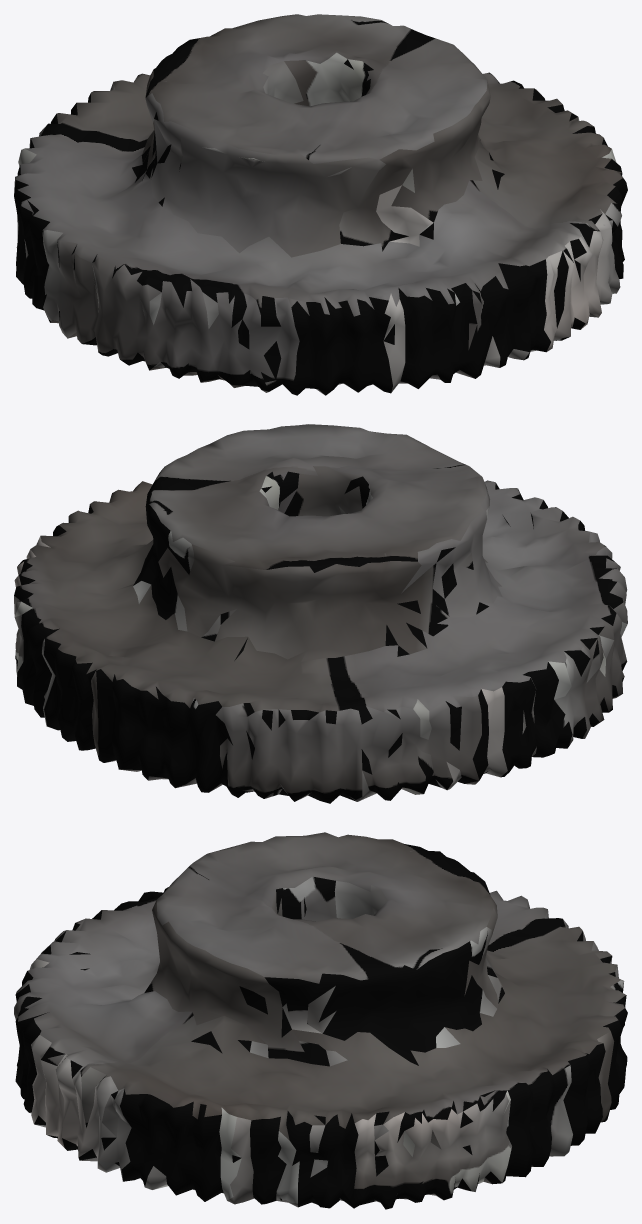
The model's file is fused_model.obj.
The picture shows the model from 3 angles, top to bottom: view 1: azimuth 30°, elevation 25°; view 2: azimuth 150°, elevation 25°; view 3: azimuth 270°, elevation 25°; orthographic projection.
Parts seen in each view (by area): view 1: gear-large_mesh; view 2: gear-large_mesh; view 3: gear-large_mesh.
Boxes of the visible parts, x1=… form: gear-large_mesh: x1=14, y1=14, x2=627, y2=395; gear-large_mesh: x1=14, y1=424, x2=627, y2=803; gear-large_mesh: x1=14, y1=832, x2=627, y2=1209.
Bounding box in the file's own units: 0.061 × 0.0223 × 0.0615.
